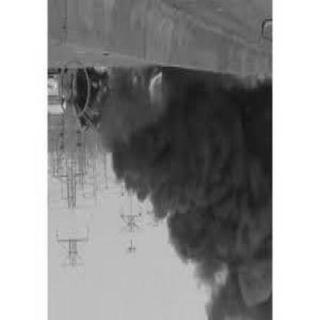Smoke: (100, 72, 270, 318)
